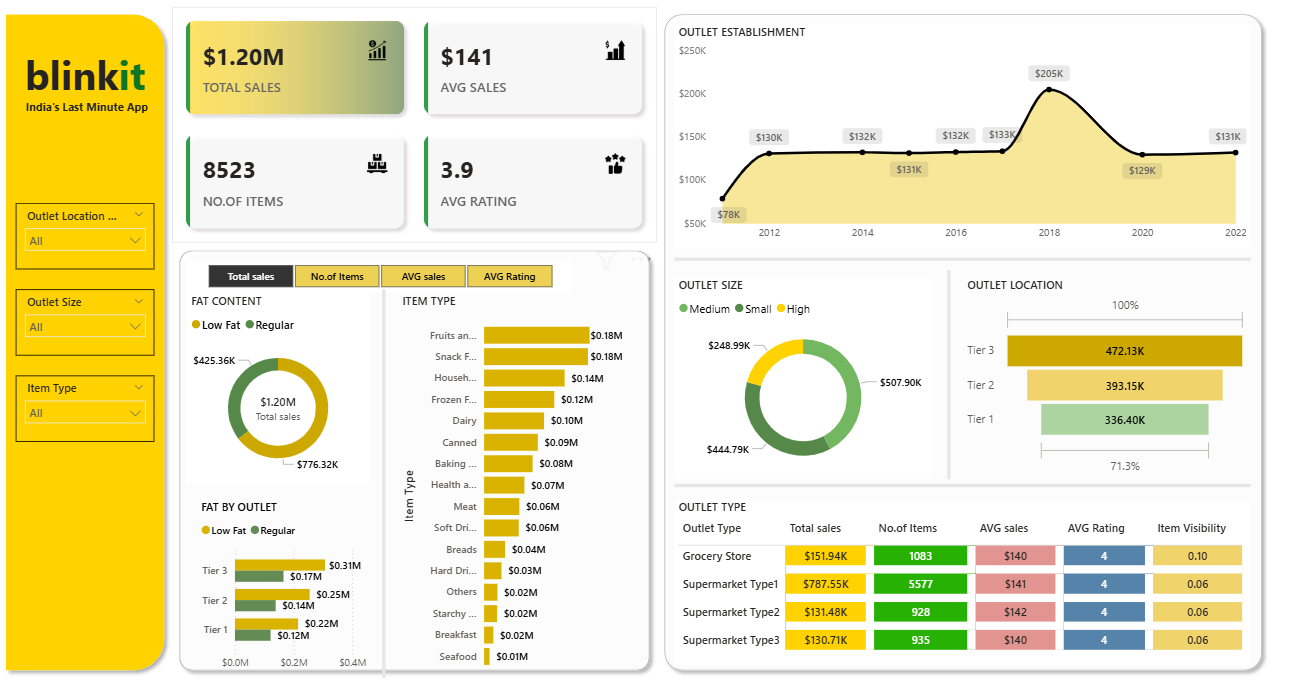

The dashboard page shown, as its layout file describes it:
{"tool":"powerbi","page":{"name":"Page 1","canvas":[1600,900],"ordinal":0},"visuals":[{"type":"shape","box":[25.6,22.6,209.6,809.8],"z":0},{"type":"textbox","box":[46.7,66.4,167.4,99.5],"z":1000},{"type":"textbox","box":[48.3,129.7,168.9,49.8],"z":2000},{"type":"cardVisual","fields":{"Data":["BlinkIT Grocery Data.Total sales","BlinkIT Grocery Data.AVG sales","BlinkIT Grocery Data.No.of Items","BlinkIT Grocery Data.AVG Rating"]},"box":[235.3,22.6,585.1,285],"z":3000},{"type":"shape","box":[235.3,307.6,585.1,524.8],"z":4000},{"type":"donutChart","title":" FAT CONTENT","fields":{"Y":["BlinkIT Grocery Data.Total sales"],"Category":["BlinkIT Grocery Data.Item Fat Content"]},"box":[253.4,368,220.2,230.7],"z":5000},{"type":"slicer","fields":{"Values":["Metrics.Metrics"]},"box":[253.4,327.2,464.5,40.7],"z":6000},{"type":"cardVisual","fields":{"Data":["BlinkIT Grocery Data.Total sales"]},"box":[315.2,473.5,96.5,57.3],"z":7000},{"type":"clusteredBarChart","title":"FAT BY OUTLET","fields":{"Y":["BlinkIT Grocery Data.Total sales"],"Category":["BlinkIT Grocery Data.Outlet Location Type"],"Series":["BlinkIT Grocery Data.Item Fat Content"]},"box":[265.4,616.8,220.2,215.7],"z":8000},{"type":"shape","box":[859.6,336.3,250.3,496.1],"z":9000},{"type":"shape","box":[473.5,363.4,34.7,469],"z":10000},{"type":"barChart","title":"ITEM TYPE","fields":{"Y":["BlinkIT Grocery Data.Total sales"],"Category":["BlinkIT Grocery Data.Item Type"]},"box":[508.2,368,276,464.5],"z":11000},{"type":"shape","box":[820.4,22.6,738.9,809.8],"z":12000},{"type":"lineChart","title":"OUTLET ESTABLISHMENT","fields":{"Y":["BlinkIT Grocery Data.Total sales"],"Category":["BlinkIT Grocery Data.Outlet Establishment Year"]},"box":[841.5,43.7,695.2,269.9],"z":13000},{"type":"shape","box":[841.5,300.1,695.2,54.3],"z":14000},{"type":"donutChart","title":"OUTLET SIZE","fields":{"Y":["BlinkIT Grocery Data.Total sales"],"Category":["BlinkIT Grocery Data.Outlet Size"]},"box":[841.5,348.4,310.7,244.3],"z":15000},{"type":"shape","box":[1155.2,340.8,34.7,251.8],"z":16000},{"type":"funnel","title":"OUTLET LOCATION","fields":{"Y":["Sum(BlinkIT Grocery Data.Sales)"],"Category":["BlinkIT Grocery Data.Outlet Location Type"]},"box":[1189.9,348.4,346.9,244.3],"z":17000},{"type":"shape","box":[841.5,573.1,695.2,54.3],"z":18000},{"type":"pivotTable","title":"OUTLET TYPE","fields":{"Values":["BlinkIT Grocery Data.Total sales","BlinkIT Grocery Data.No.of Items","BlinkIT Grocery Data.AVG sales","BlinkIT Grocery Data.AVG Rating","Avg(BlinkIT Grocery Data.Item Visibility)"],"Rows":["BlinkIT Grocery Data.Outlet Type"]},"box":[841.5,616.8,695.2,200.6],"z":19000},{"type":"slicer","fields":{"Values":["BlinkIT Grocery Data.Outlet Location Type"]},"box":[46.7,259.4,167.4,79.9],"z":20000},{"type":"slicer","fields":{"Values":["BlinkIT Grocery Data.Outlet Size"]},"box":[46.7,363.4,167.4,79.9],"z":21000},{"type":"slicer","fields":{"Values":["BlinkIT Grocery Data.Item Type"]},"box":[46.7,467.5,167.4,79.9],"z":22000}]}

Visuals, with their boxes on the page's 1600x900 design canvas (x1, y1, x2, y2). These are canvas units, not pixel positions in the 1289x693 screenshot, which may show the page scaled, cropped or inside an application window:
shape: select_region(26, 23, 235, 832)
textbox: select_region(47, 66, 214, 166)
textbox: select_region(48, 130, 217, 180)
cardVisual - BlinkIT Grocery Data.Total sales x BlinkIT Grocery Data.AVG sales: select_region(235, 23, 820, 308)
shape: select_region(235, 308, 820, 832)
" FAT CONTENT" donutChart: select_region(253, 368, 474, 599)
slicer - Metrics.Metrics: select_region(253, 327, 718, 368)
cardVisual - BlinkIT Grocery Data.Total sales: select_region(315, 474, 412, 531)
"FAT BY OUTLET" clusteredBarChart: select_region(265, 617, 486, 832)
shape: select_region(860, 336, 1110, 832)
shape: select_region(474, 363, 508, 832)
"ITEM TYPE" barChart: select_region(508, 368, 784, 832)
shape: select_region(820, 23, 1559, 832)
"OUTLET ESTABLISHMENT" lineChart: select_region(842, 44, 1537, 314)
shape: select_region(842, 300, 1537, 354)
"OUTLET SIZE" donutChart: select_region(842, 348, 1152, 593)
shape: select_region(1155, 341, 1190, 593)
"OUTLET LOCATION" funnel: select_region(1190, 348, 1537, 593)
shape: select_region(842, 573, 1537, 627)
"OUTLET TYPE" pivotTable: select_region(842, 617, 1537, 817)
slicer - BlinkIT Grocery Data.Outlet Location Type: select_region(47, 259, 214, 339)
slicer - BlinkIT Grocery Data.Outlet Size: select_region(47, 363, 214, 443)
slicer - BlinkIT Grocery Data.Item Type: select_region(47, 468, 214, 547)
